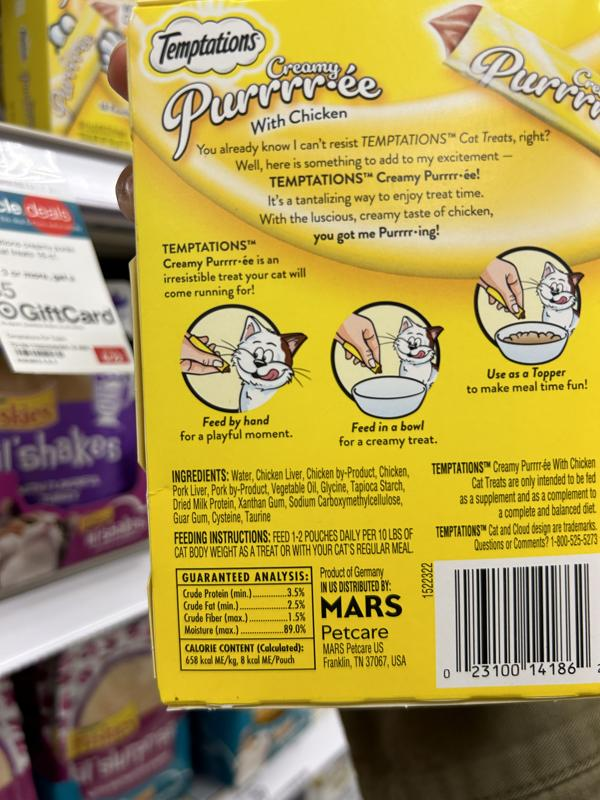ingredients: (169, 463, 411, 526)
